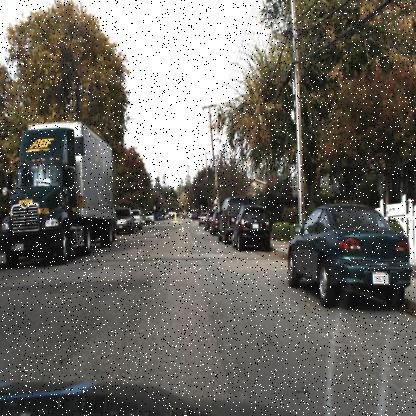car: (286, 196, 412, 312), (229, 201, 273, 251), (232, 204, 272, 251), (216, 196, 245, 242), (112, 206, 136, 234), (129, 206, 142, 230), (210, 210, 221, 234), (203, 210, 211, 233), (143, 210, 154, 224)
truck: (0, 115, 115, 274), (0, 117, 116, 268)
